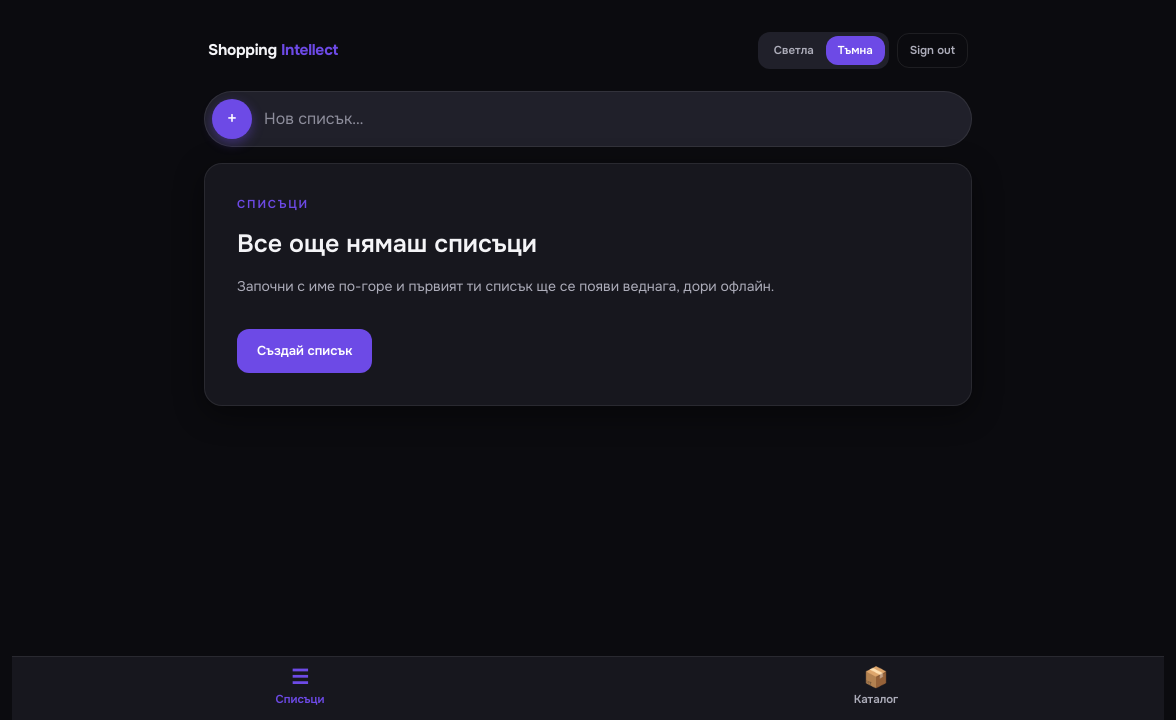
logout clears the store and returns to auth
This screenshot has width=1176, height=720.
Expected: the heading "Все още нямаш списъци" is shown, 237,228 -> 537,260
Click the button "Sign out". click: x=932, y=51
box: 897,33 -> 968,68
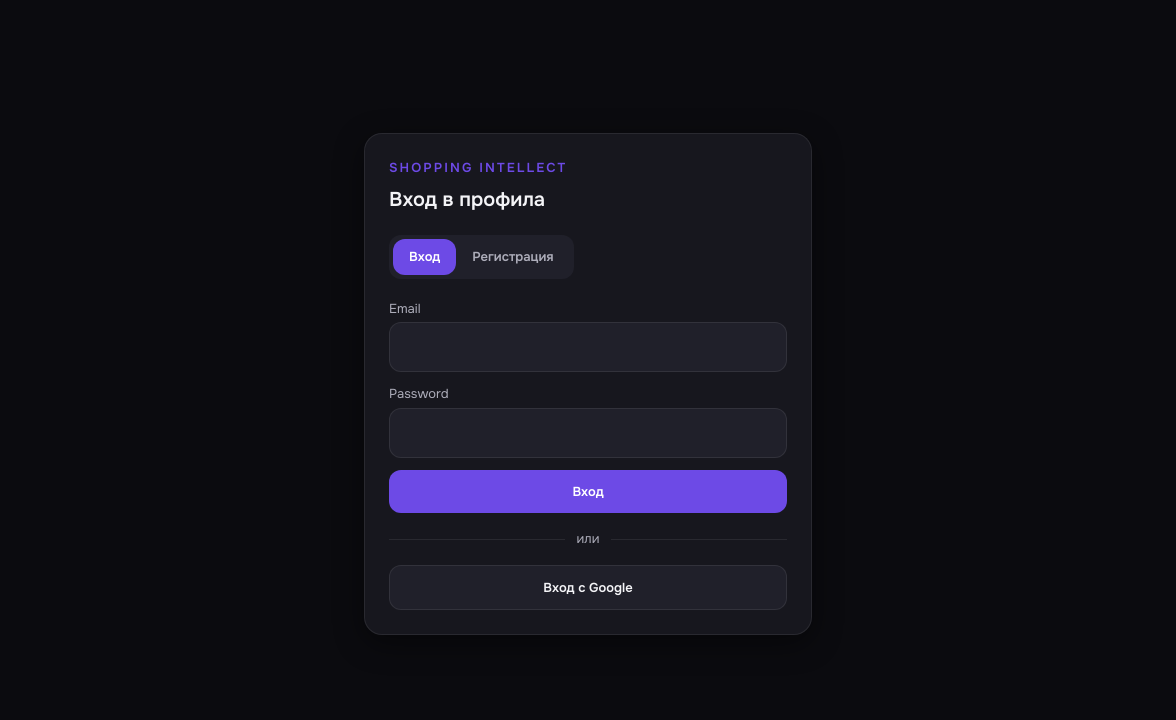
Now the field labelled "Email" is shown, box 389,322 -> 787,372
